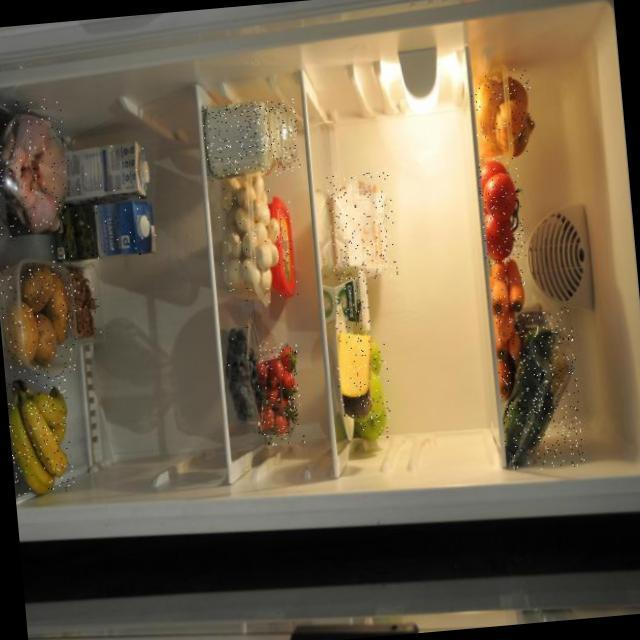Carne pollo: (0, 96, 75, 239)
Cebolla: (468, 67, 535, 158)
Champiñones: (213, 171, 284, 308)
Gambas/Langostinos: (61, 262, 101, 343)
Mantequilla: (253, 196, 298, 301)
Manzana: (346, 337, 392, 440)
Patata: (0, 259, 82, 378)
Plátano: (4, 374, 74, 499)
Queso: (332, 326, 377, 419), (330, 272, 370, 337)
Zanahoria: (487, 254, 535, 401)
blueberries: (219, 324, 264, 425)
flour: (324, 171, 398, 282)
milk: (44, 191, 158, 263), (41, 140, 151, 205)
spinach: (492, 305, 584, 473)
strawberries: (249, 340, 304, 447)
sugar: (200, 99, 300, 182)
tomato paste: (476, 155, 526, 261)
